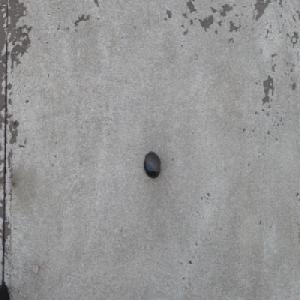FuelCap: (143, 151, 160, 178)
